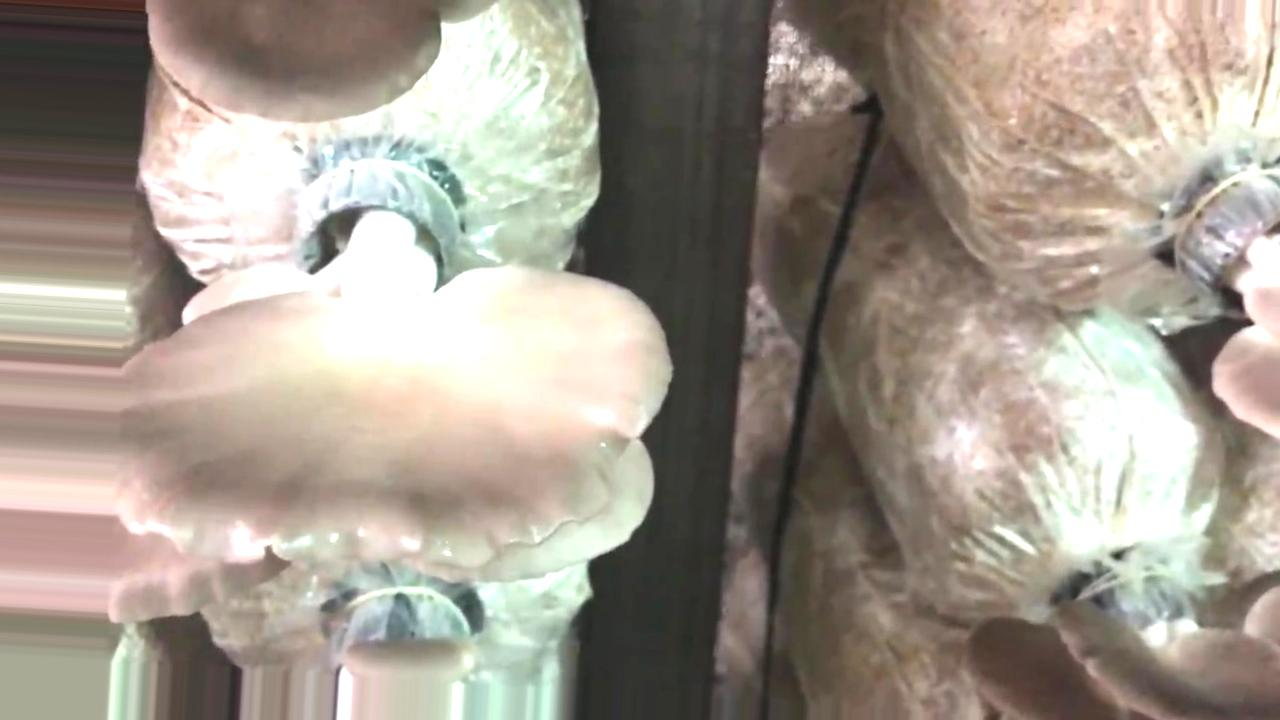nam: (100, 137, 675, 592), (967, 571, 1280, 719), (145, 1, 502, 128), (1180, 153, 1280, 435)
